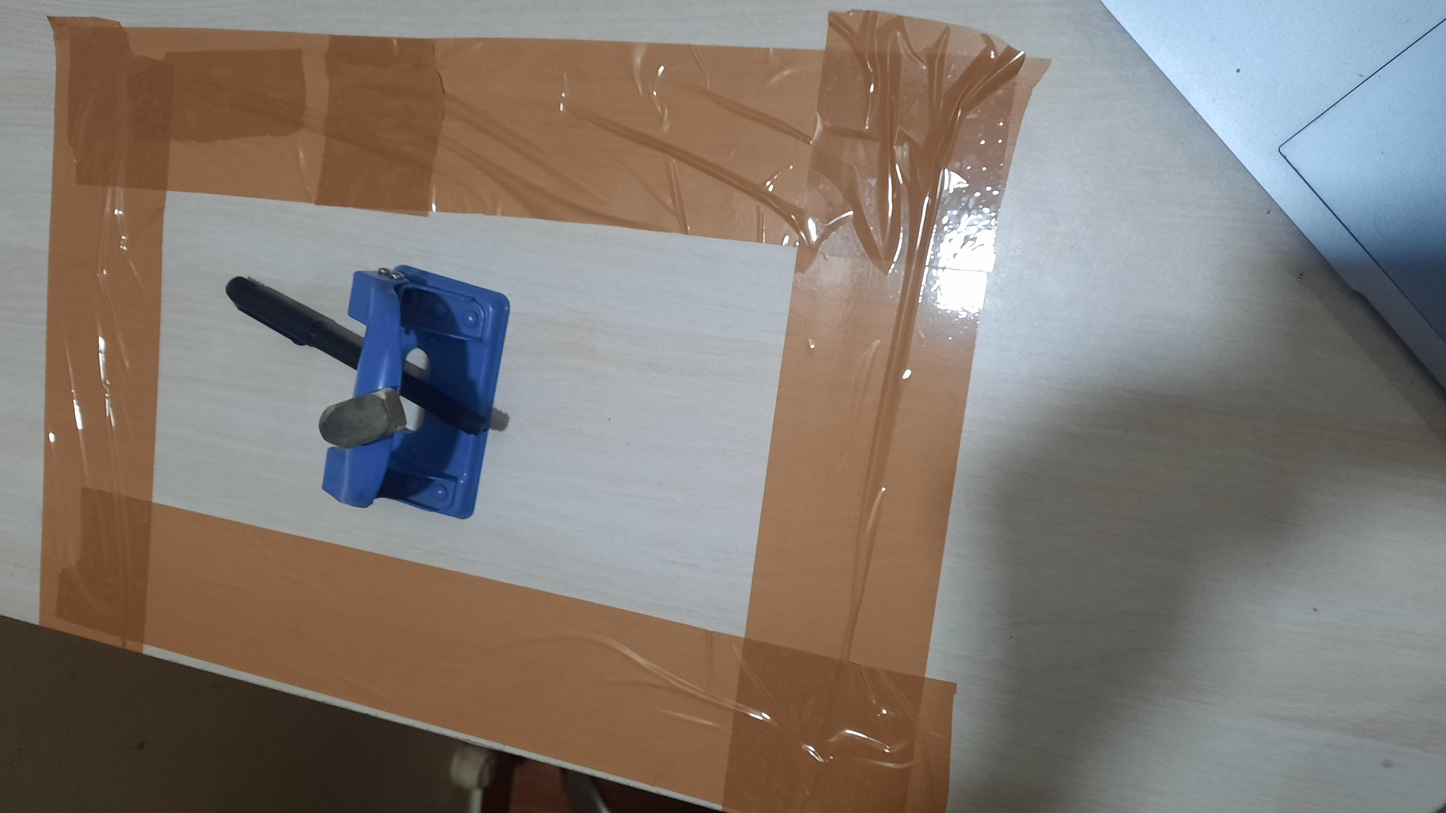Eraser: (318, 387, 407, 450)
Pen: (225, 275, 509, 435)
Punch: (321, 264, 510, 520)
